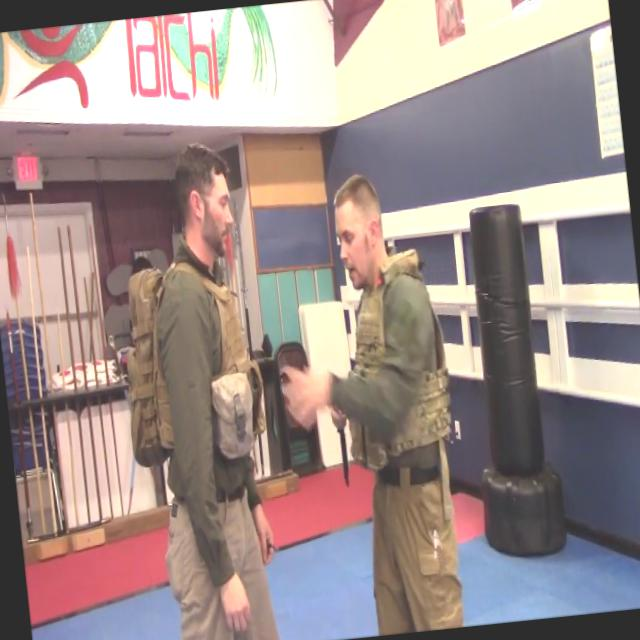knife: (332, 424, 356, 488)
